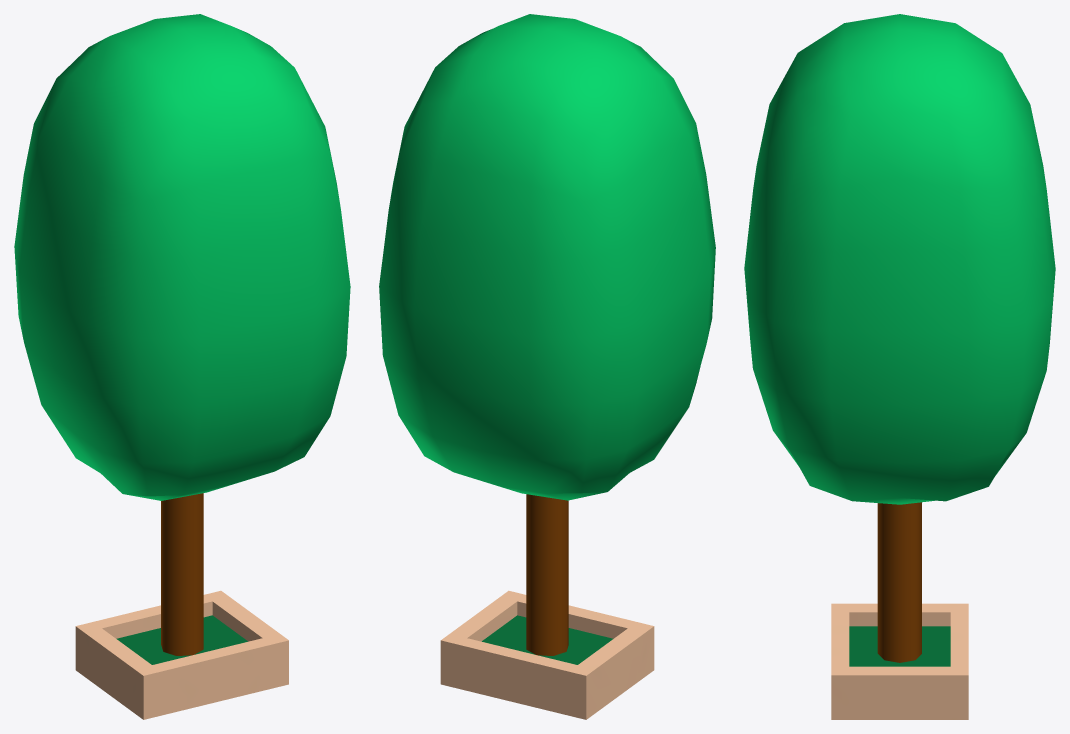
File: Tree_Obstacle.fbx
3 renders of one model, left to right at view 1: azimuth 30°, elevation 25°; view 2: azimuth 150°, elevation 25°; view 3: azimuth 270°, elevation 25°, orthographic.
Parts seen in each view (by area): view 1: Tree, Treebase; view 2: Tree, Treebase; view 3: Tree, Treebase.
Boxes of the visible parts, x1,y1,x2,y2 form: Tree: [14, 14, 350, 655]; Treebase: [75, 590, 288, 719]; Tree: [379, 14, 715, 655]; Treebase: [440, 590, 654, 719]; Tree: [744, 14, 1055, 662]; Treebase: [831, 603, 968, 719].
Size of the model in its own units: 3.63 by 8.54 by 3.68.
